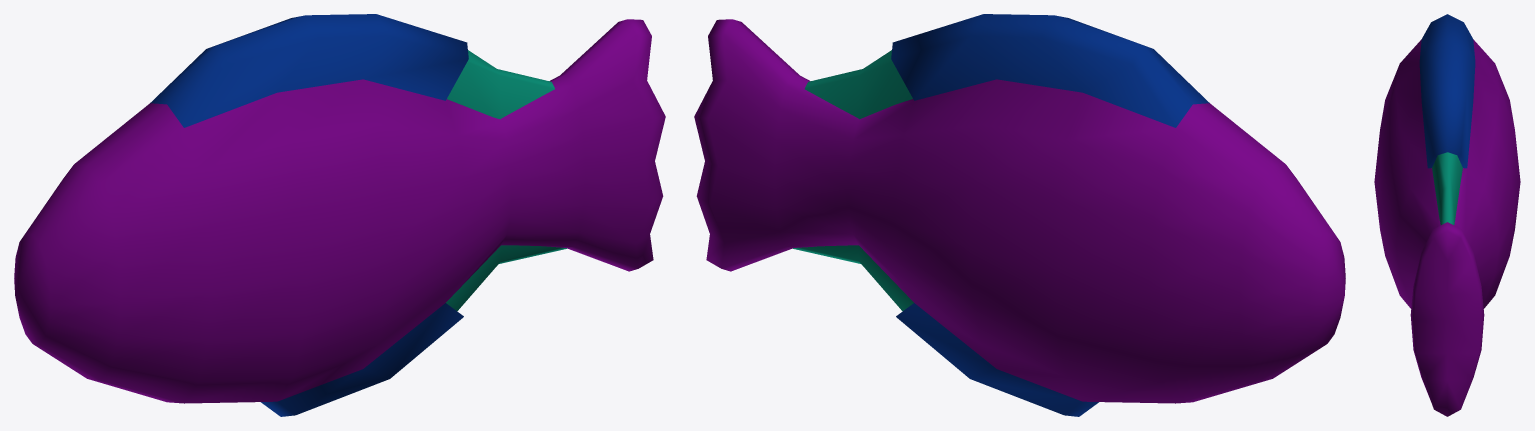
The model's file is Bungeoppang.fbx.
3 renders of one model, left to right at view 1: azimuth 30°, elevation 25°; view 2: azimuth 150°, elevation 25°; view 3: azimuth 270°, elevation 25°, orthographic. The views are drawn at different scales.
Visible parts, largest first — view 1: Bungeoppang; view 2: Bungeoppang; view 3: Bungeoppang.
Boxes of the visible parts, left/top/right/bottom form: Bungeoppang: left=14, top=14, right=665, bottom=416; Bungeoppang: left=694, top=14, right=1345, bottom=416; Bungeoppang: left=1374, top=14, right=1520, bottom=416.
Size of the model in its own units: 46.3 by 12.24 by 27.78.
